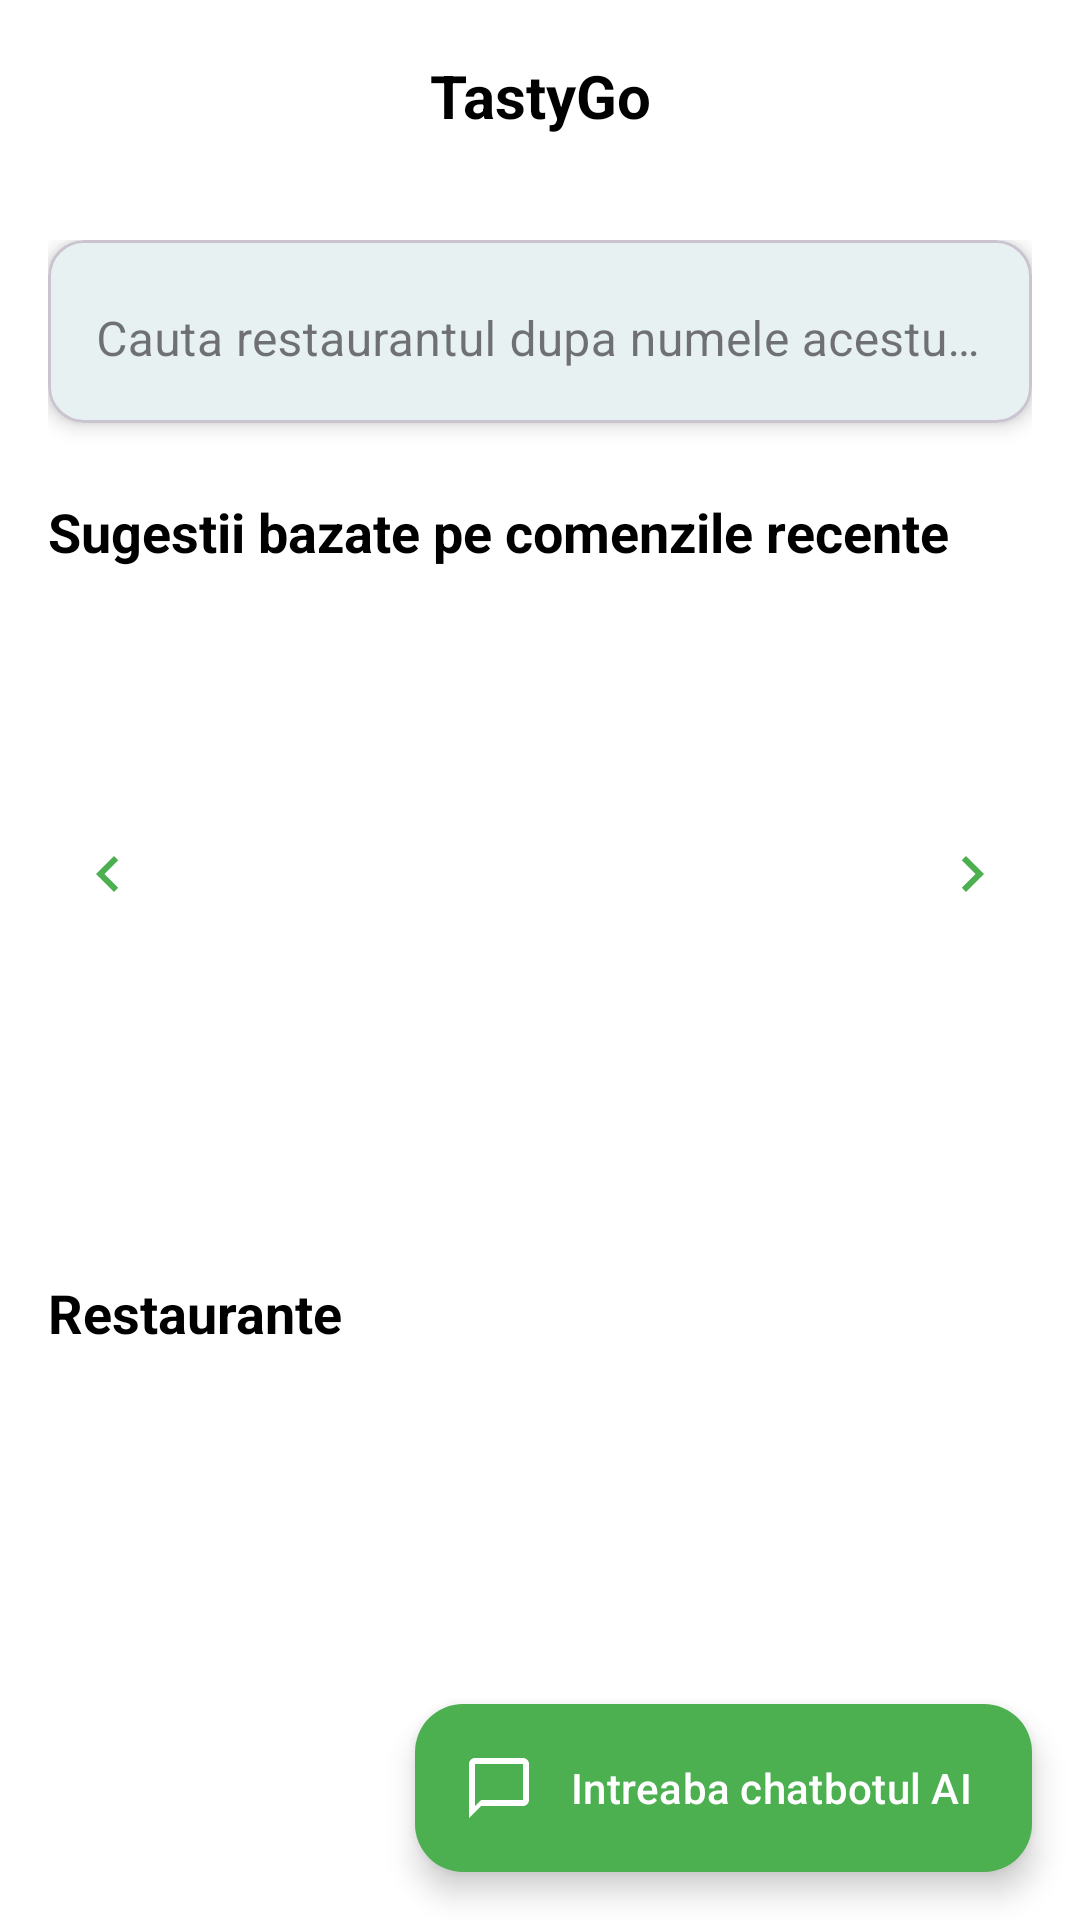

Icon bounding boxes for this 1080 x 1920 phone screenshot, format (x1, y1, x2, y2):
Next: (962, 856, 984, 892)
Previous: (96, 856, 118, 892)
